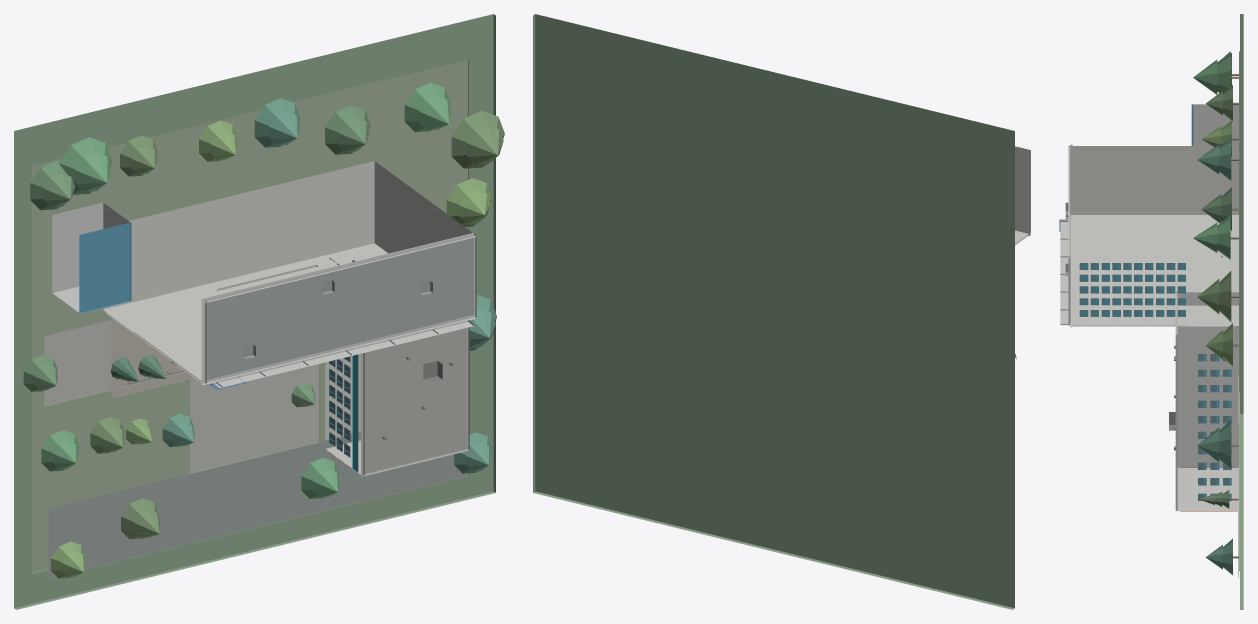
The model's file is atu-building.glb.
3 renders of one model, left to right at view 1: azimuth 30°, elevation 25°; view 2: azimuth 150°, elevation 25°; view 3: azimuth 270°, elevation 25°, orthographic. The views are drawn at different scales.
Visible parts, largest first — view 1: ATU_Almaty_architecture; view 2: ATU_Almaty_architecture; view 3: ATU_Almaty_architecture.
Boxes of the visible parts, box(x1,y1,x2,y2) form: ATU_Almaty_architecture: box(14, 14, 504, 609); ATU_Almaty_architecture: box(533, 14, 1030, 609); ATU_Almaty_architecture: box(1059, 14, 1243, 609).
Size of the model in its own units: 123 by 116 by 48.5.
